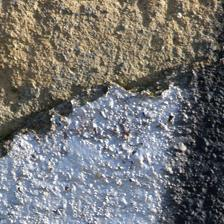Crack: (7, 66, 197, 156)
